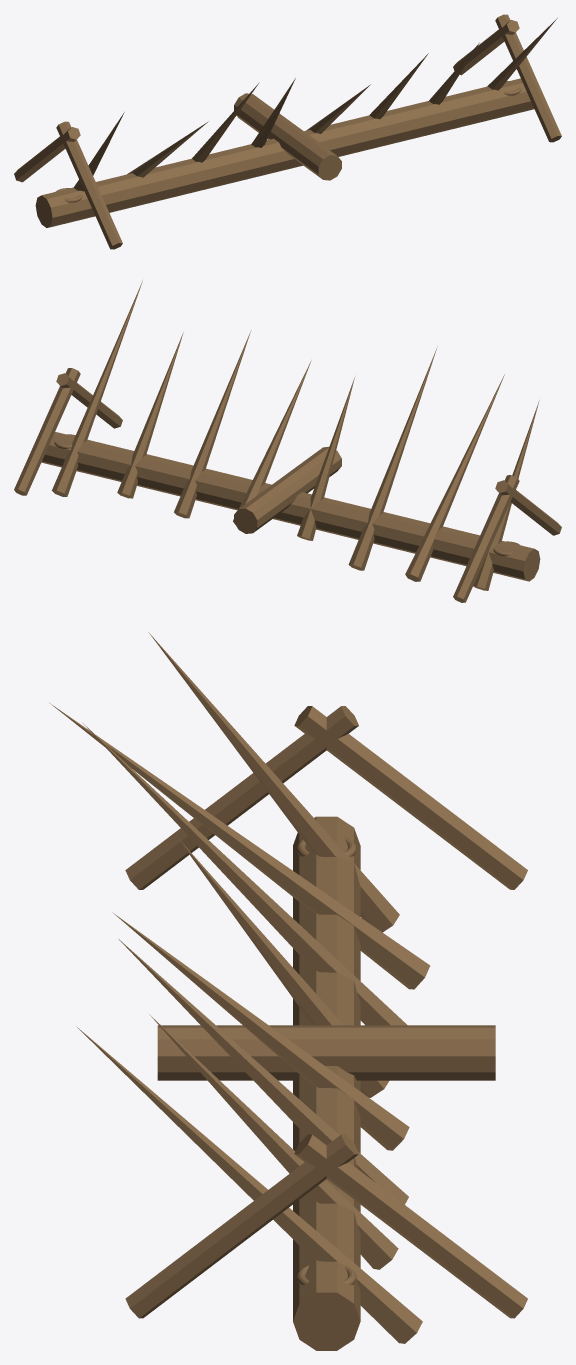
File: spike_barricade.fbx
The picture shows the model from 3 angles, top to bottom: view 1: azimuth 30°, elevation 25°; view 2: azimuth 150°, elevation 25°; view 3: azimuth 270°, elevation 25°; orthographic projection. The views are drawn at different scales.
Visible parts, largest first — view 1: spike_barricade; view 2: spike_barricade; view 3: spike_barricade.
Boxes of the visible parts, <box> form: spike_barricade: <box>14,14,561,249</box>; spike_barricade: <box>14,280,561,602</box>; spike_barricade: <box>50,632,527,1350</box>.
Size of the model in its own units: 2 by 0.6577 by 0.8528.
